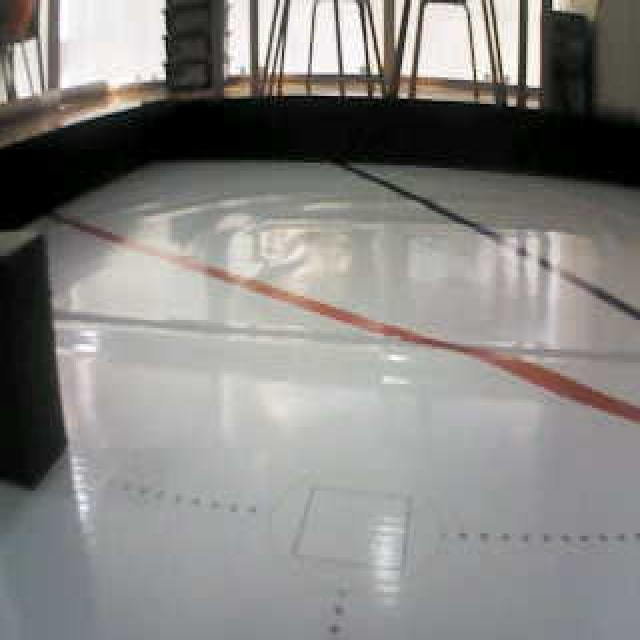azul: (496, 201, 640, 334)
naranja: (227, 249, 450, 377)
rojo: (0, 222, 72, 469)
